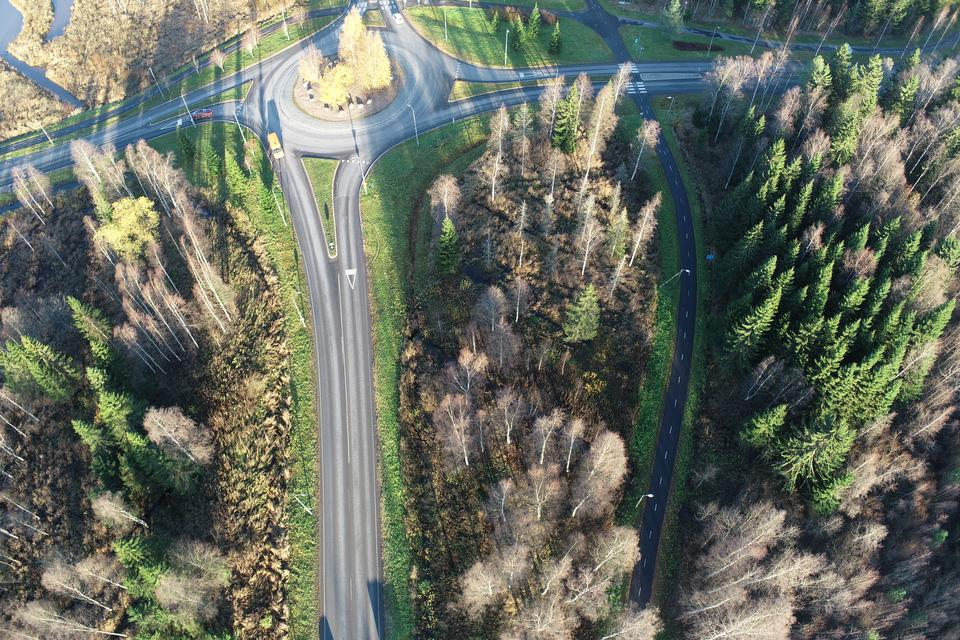intersection: (605, 46, 671, 110), (332, 0, 420, 16)
roundabout: (222, 25, 507, 201)
